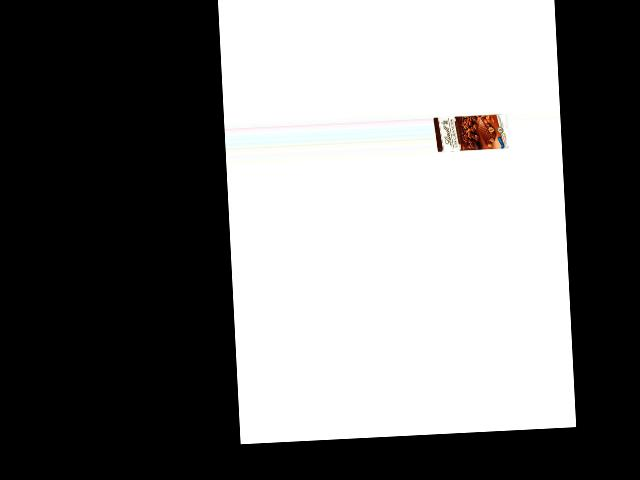chocolate: (435, 108, 505, 154)
